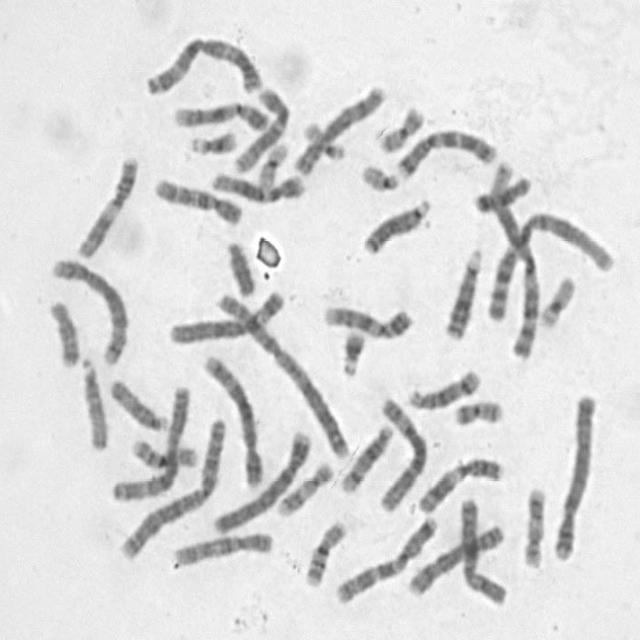A1: (482, 206, 616, 324), (485, 154, 542, 362)
A2: (210, 286, 354, 462), (115, 408, 228, 562)
A3: (107, 379, 193, 503), (141, 31, 266, 98)
B4: (208, 423, 314, 536), (549, 387, 600, 563)
B5: (199, 346, 267, 490), (47, 253, 129, 368)
C10: (150, 172, 246, 227), (170, 527, 277, 569)
C11: (70, 150, 141, 261), (413, 452, 506, 516)
C12: (231, 82, 292, 175), (210, 166, 308, 204)
C6: (165, 284, 288, 346), (375, 392, 431, 513)
C7: (332, 510, 441, 606), (392, 124, 500, 180)
C8: (290, 79, 390, 177), (403, 518, 508, 598)
C9: (318, 298, 415, 341), (169, 96, 271, 133)
D13: (359, 192, 433, 258), (441, 242, 486, 341)
D14: (335, 419, 395, 495), (404, 364, 484, 411)
D15: (106, 374, 171, 433), (77, 352, 111, 453)
E16: (300, 516, 349, 588), (126, 433, 200, 471)
E17: (273, 456, 337, 518), (518, 481, 548, 571)
E18: (468, 170, 532, 215), (44, 294, 81, 368)
F19: (535, 271, 578, 330), (254, 137, 292, 188)
F20: (374, 101, 427, 155), (449, 394, 507, 428)
G21: (185, 125, 240, 157), (336, 325, 368, 378)
G22: (300, 116, 349, 162), (357, 158, 403, 193)
X: (403, 518, 508, 598), (454, 490, 510, 607)
Y: (223, 236, 258, 298)
